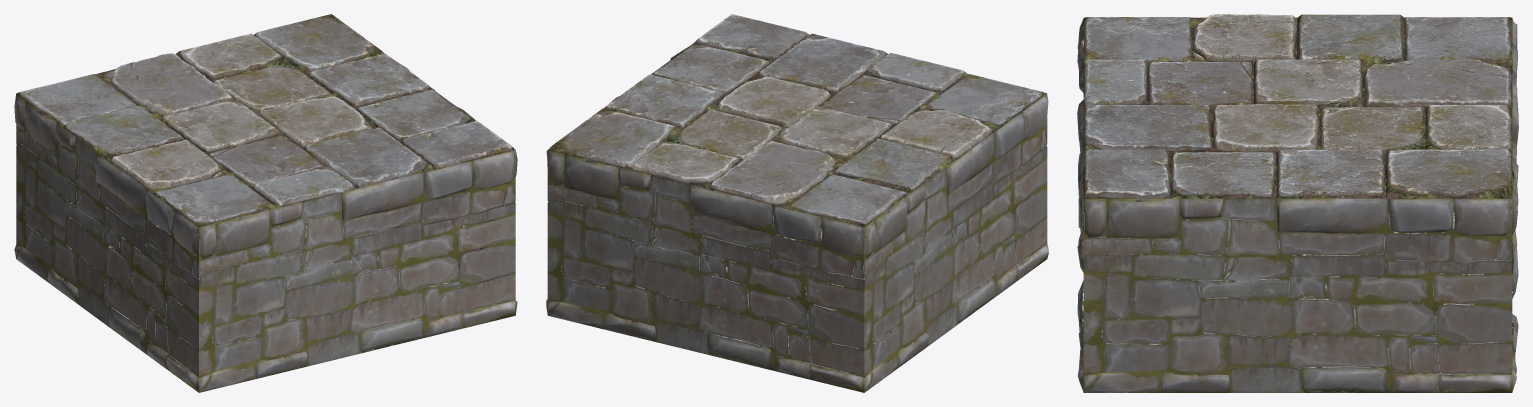
The picture shows the model from 3 angles, left to right: view 1: azimuth 30°, elevation 25°; view 2: azimuth 150°, elevation 25°; view 3: azimuth 270°, elevation 25°; orthographic projection. The views are drawn at different scales.
Parts seen in each view (by area): view 1: SM_Castle_Steps_4x2_02_v1_LOD0; view 2: SM_Castle_Steps_4x2_02_v1_LOD0; view 3: SM_Castle_Steps_4x2_02_v1_LOD0.
Part boxes in pixels (x1=…): SM_Castle_Steps_4x2_02_v1_LOD0: x1=14, y1=14, x2=517, y2=392; SM_Castle_Steps_4x2_02_v1_LOD0: x1=546, y1=14, x2=1048, y2=392; SM_Castle_Steps_4x2_02_v1_LOD0: x1=1077, y1=14, x2=1518, y2=392.
Size of the model in its own units: 4.12 by 2.05 by 4.12.
Materials: 2 (2 with a texture image).
